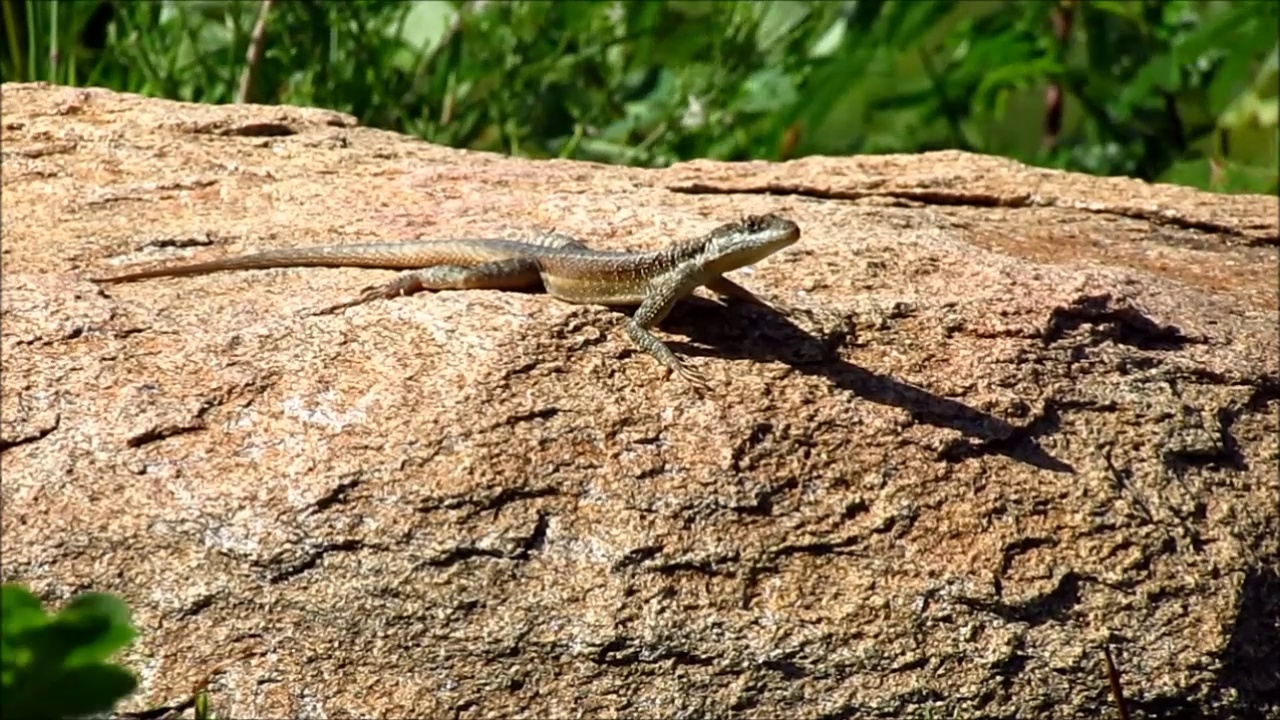body: (84, 228, 709, 403)
head: (701, 213, 800, 266)
